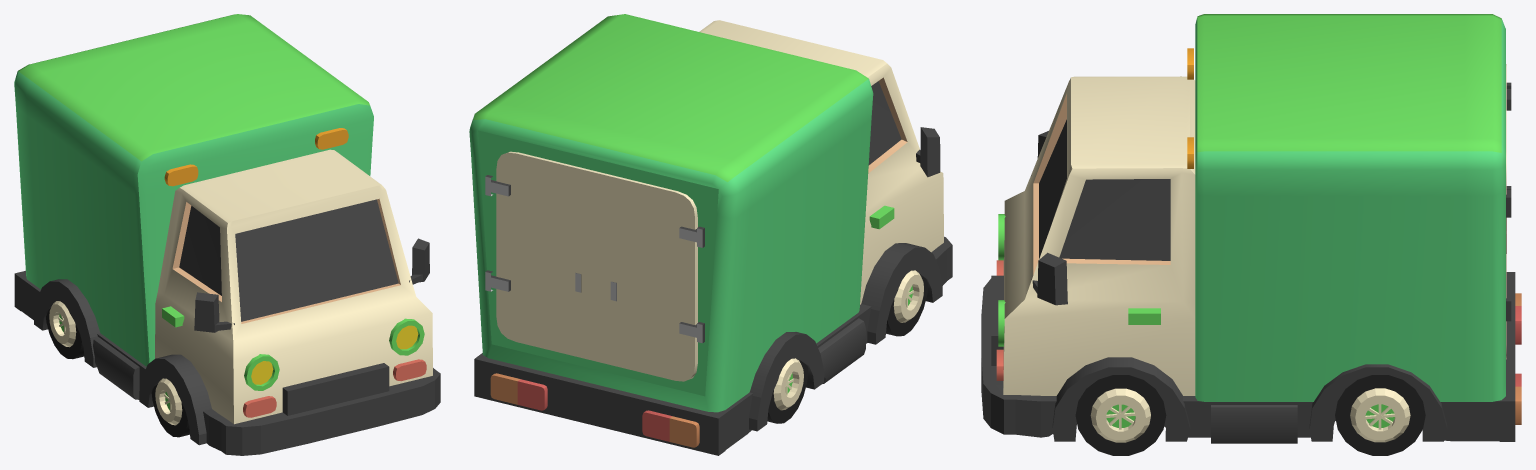
The model's file is Green_Small_Truck.fbx.
The picture shows the model from 3 angles, left to right: view 1: azimuth 30°, elevation 25°; view 2: azimuth 150°, elevation 25°; view 3: azimuth 270°, elevation 25°; orthographic projection. The views are drawn at different scales.
Visible parts, largest first — view 1: Green_Small_Truck, Green_Small_Truck_Wheel, Green_Small_Truck_Wheel2; view 2: Green_Small_Truck, Small_Right_Door, Small_Left_Door, Green_Small_Truck_Wheel, Green_Small_Truck_Wheel2; view 3: Green_Small_Truck, Green_Small_Truck_Wheel, Green_Small_Truck_Wheel2, Small_Left_Door.
Part boxes in pixels (x1,y1,x2,y2): Green_Small_Truck: (14,14,440,455); Green_Small_Truck_Wheel: (151,378,189,437); Green_Small_Truck_Wheel2: (46,301,84,359); Green_Small_Truck: (469,14,952,455); Small_Right_Door: (595,171,704,381); Small_Left_Door: (485,151,596,361); Green_Small_Truck_Wheel: (886,270,928,336); Green_Small_Truck_Wheel2: (767,358,808,423); Green_Small_Truck: (981,14,1521,443); Green_Small_Truck_Wheel: (1075,375,1166,455); Green_Small_Truck_Wheel2: (1335,375,1425,455); Small_Left_Door: (1506,109,1511,359).
Bounding box in the file's own units: 218 × 220 × 347.
